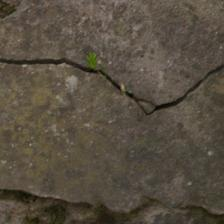Crack: (82, 56, 142, 168), (184, 199, 224, 224)
